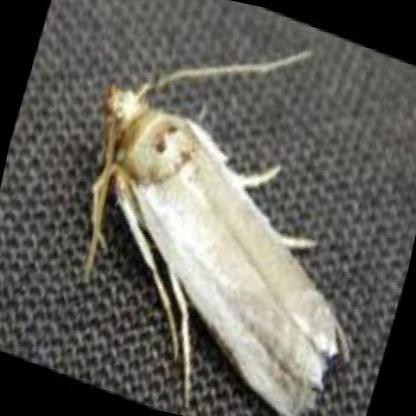Leaf Webber: (79, 79, 342, 416)
